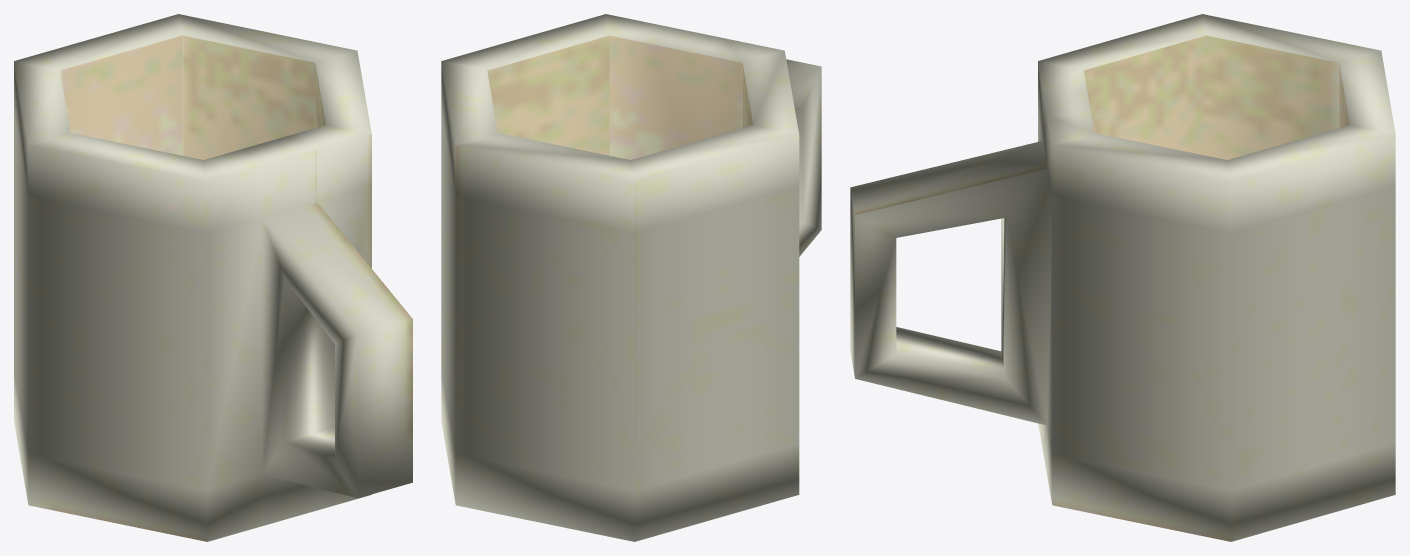
File: mug.dae
3 views of the same model, side by side, from view 1: azimuth 30°, elevation 25°; view 2: azimuth 150°, elevation 25°; view 3: azimuth 270°, elevation 25° (orthographic).
Visible parts, largest first — view 1: Mug; view 2: Mug; view 3: Mug.
Part boxes in pixels (x1,y1,x2,y2): Mug: [14, 14, 412, 541]; Mug: [441, 14, 821, 541]; Mug: [850, 14, 1395, 541].
Size of the model in its own units: 0.0984 by 0.1354 by 0.0987.
Materials: 1 (1 with a texture image).
